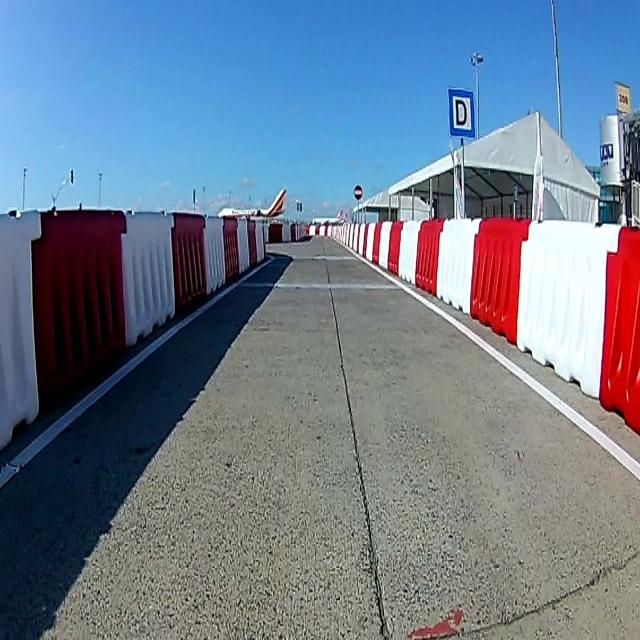durak: (448, 90, 476, 138)
girisyok: (354, 184, 363, 200)
